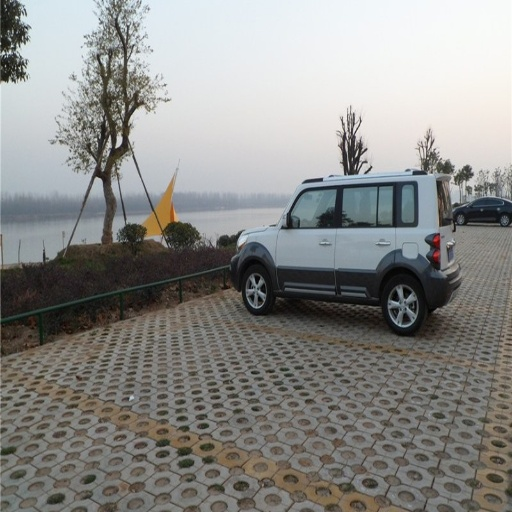back_left_door: (335, 184, 394, 295)
